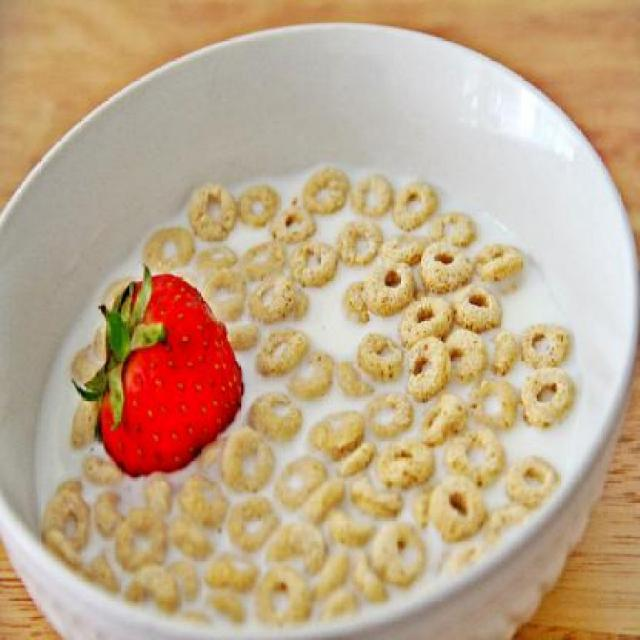Strawberry: (94, 279, 235, 487)
